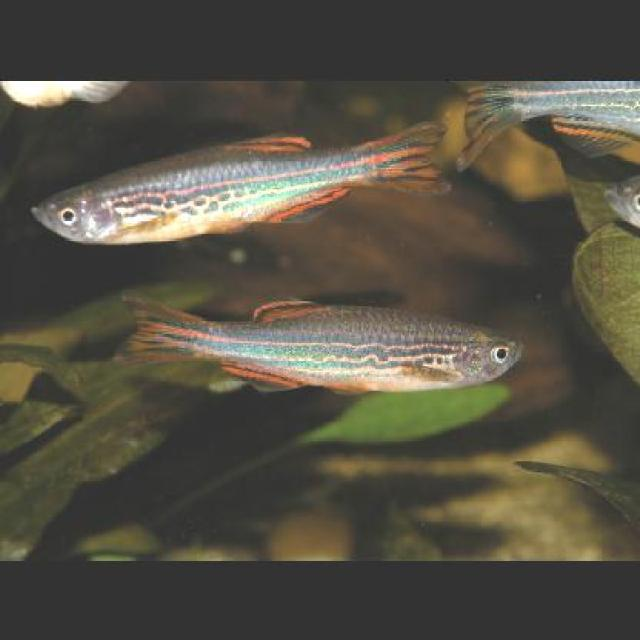ZebraFish: (34, 117, 448, 240), (116, 288, 524, 392)
